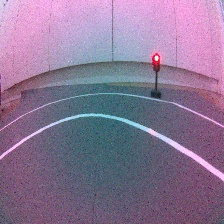red: (148, 52, 163, 100)
